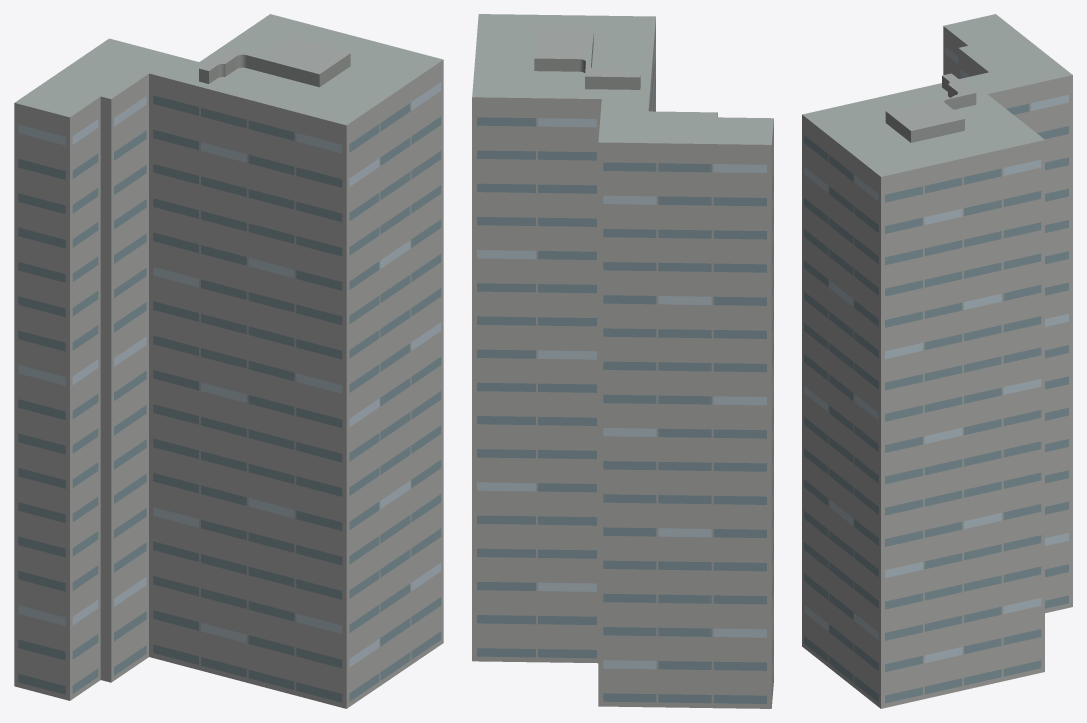
File: fallback-onebailey-101.glb
3 renders of one model, left to right at view 1: azimuth 30°, elevation 25°; view 2: azimuth 150°, elevation 25°; view 3: azimuth 270°, elevation 25°, orthographic. The views are drawn at different scales.
Visible parts, largest first — view 1: fallback-onebailey-101; view 2: fallback-onebailey-101; view 3: fallback-onebailey-101.
Boxes of the visible parts, bbox=[...] form: fallback-onebailey-101: bbox=[14, 14, 443, 708]; fallback-onebailey-101: bbox=[472, 14, 773, 708]; fallback-onebailey-101: bbox=[802, 14, 1072, 708].
Size of the model in its own units: 70.66 by 110 by 49.62.
